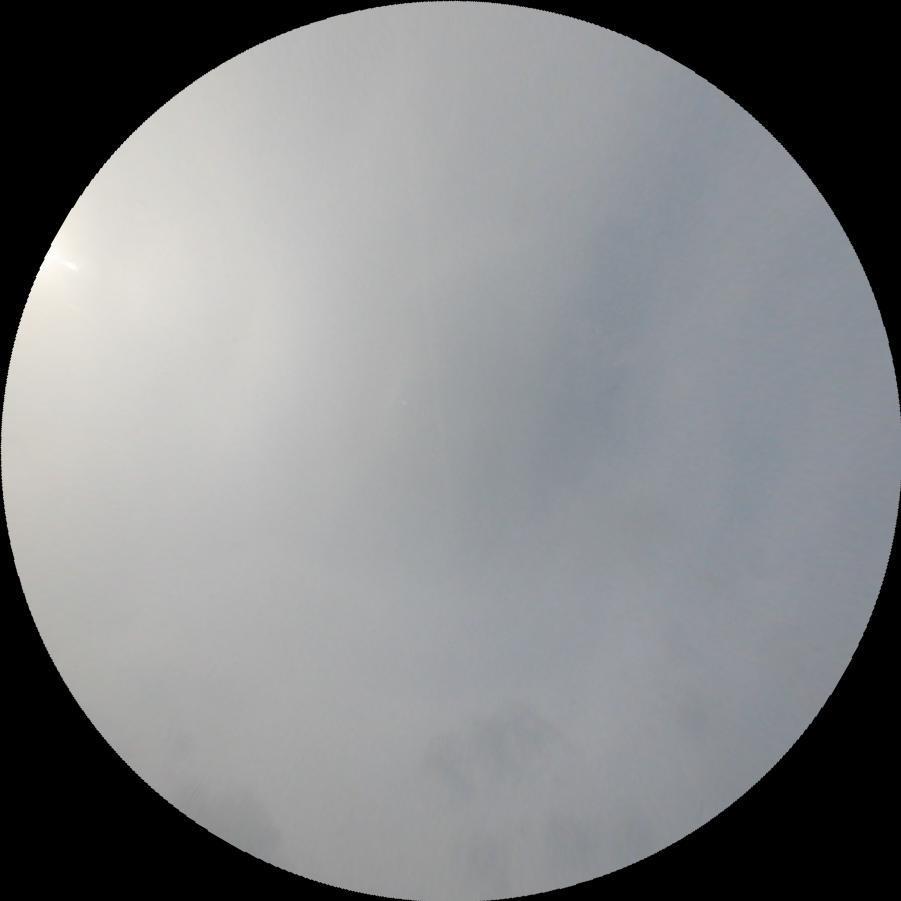contrail old: (392, 61, 460, 557)
